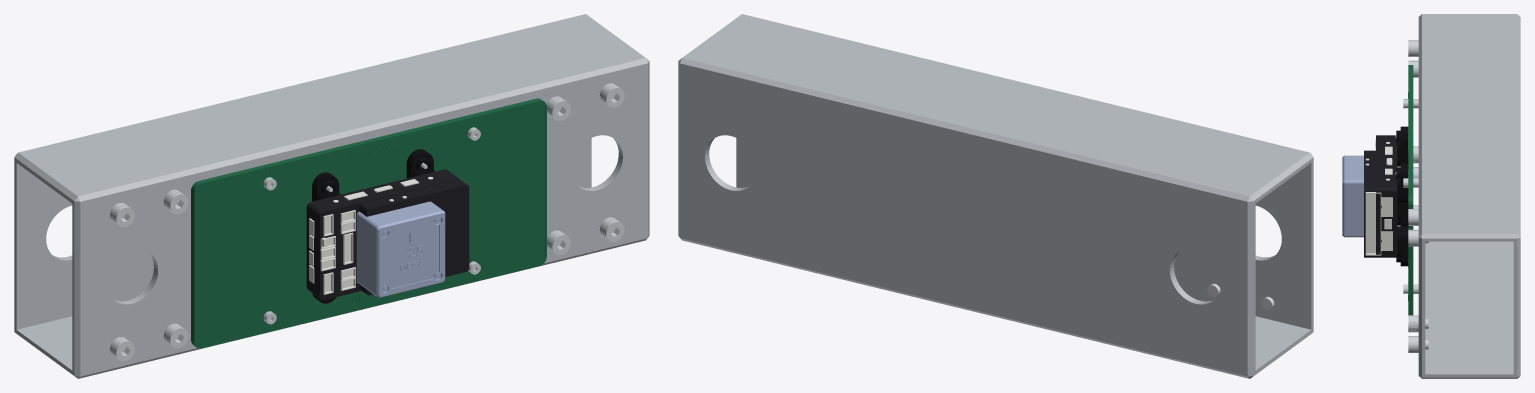
Rendered from S200_beam_PCB_X25_assembly_colored.obj.
3 views of the same model, side by side, from view 1: azimuth 30°, elevation 25°; view 2: azimuth 150°, elevation 25°; view 3: azimuth 270°, elevation 25° (orthographic). The views are drawn at different scales.
Parts seen in each view (by area): view 1: beam_hollow, pcb, x25_body, x25_core, hardware, x25_ports, x25_mounts; view 2: beam_hollow; view 3: beam_hollow, x25_body, x25_core, hardware, x25_mounts, x25_ports, pcb.
Boxes of the visible parts, x1,y1,x2,y2 form: beam_hollow: (14,14,649,378); pcb: (191,98,546,348); x25_body: (306,169,469,299); x25_core: (356,201,445,297); hardware: (110,83,624,361); x25_ports: (309,176,433,294); x25_mounts: (312,149,434,303); beam_hollow: (678,14,1313,378); beam_hollow: (1418,14,1520,378); x25_body: (1364,135,1397,257); x25_core: (1342,155,1363,237); hardware: (1395,40,1428,352); x25_mounts: (1396,126,1408,266); x25_ports: (1365,139,1392,255); pcb: (1408,65,1413,315).
Bounding box in the file's own units: 310 × 94 × 105.
